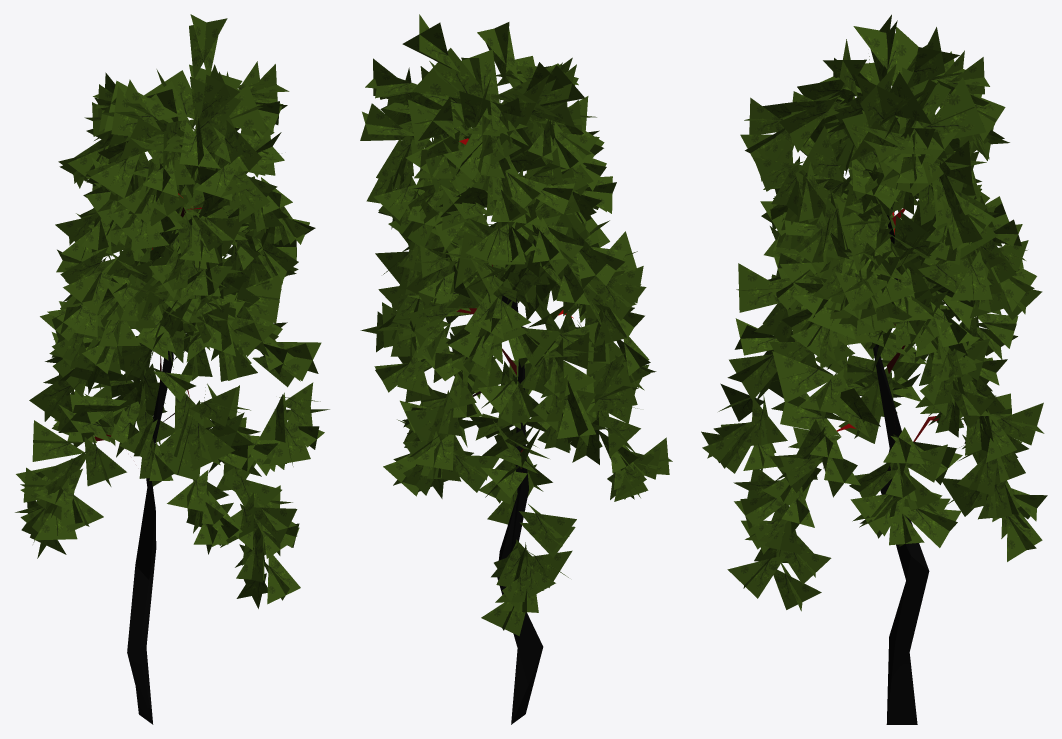
File: birch 4 lod2.FBX
The picture shows the model from 3 angles, left to right: view 1: azimuth 30°, elevation 25°; view 2: azimuth 150°, elevation 25°; view 3: azimuth 270°, elevation 25°; orthographic projection. The views are drawn at different scales.
Parts seen in each view (by area): view 1: birch4_LOD2; view 2: birch4_LOD2; view 3: birch4_LOD2.
Part boxes in pixels (x1,y1,x2,y2): birch4_LOD2: (15, 14, 329, 724); birch4_LOD2: (360, 14, 672, 724); birch4_LOD2: (701, 14, 1047, 724).
Size of the model in its own units: 76518 by 177351 by 76373.
